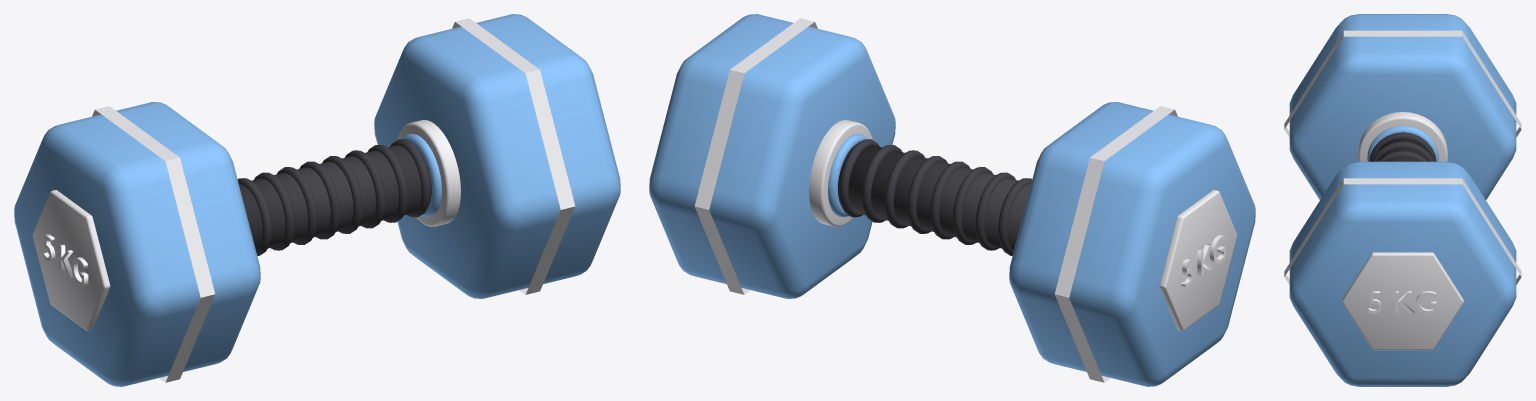
File: dm_small5kg.glb
3 views of the same model, side by side, from view 1: azimuth 30°, elevation 25°; view 2: azimuth 150°, elevation 25°; view 3: azimuth 270°, elevation 25° (orthographic). The views are drawn at different scales.
Parts seen in each view (by area): view 1: Small5kg_HexHead.001, Small5kg_HexHead, Small5kg_Grip, Small5kg_EndPlate, Small5kg_Stripe.001, Small5kg_Stripe, Small5kg_InnerCollar.001, Small5kg_GripEnd.001, Small5kg_Label, Small5kg_GripRing.002, Small5kg_GripRing.004, Small5kg_GripRing.008 (+5 smaller); view 2: Small5kg_HexHead.001, Small5kg_HexHead, Small5kg_Grip, Small5kg_EndPlate, Small5kg_Stripe.001, Small5kg_Stripe, Small5kg_InnerCollar.001, Small5kg_GripEnd.001, Small5kg_Label, Small5kg_GripRing.002, Small5kg_GripRing.004, Small5kg_GripRing.008 (+5 smaller); view 3: Small5kg_HexHead.001, Small5kg_HexHead, Small5kg_EndPlate.001, Small5kg_Stripe, Small5kg_Stripe.001, Small5kg_InnerCollar, Small5kg_Label.001, Small5kg_GripEnd, Small5kg_GripRing, Small5kg_Grip, Small5kg_GripRing.001, Small5kg_GripRing.002.
Boxes of the visible parts, x1,y1,x2,y2 form: Small5kg_HexHead.001: (374, 14, 620, 298); Small5kg_HexHead: (14, 102, 260, 386); Small5kg_Grip: (239, 144, 431, 250); Small5kg_EndPlate: (32, 190, 110, 330); Small5kg_Stripe.001: (452, 18, 575, 294); Small5kg_Stripe: (92, 106, 215, 382); Small5kg_InnerCollar.001: (397, 120, 460, 226); Small5kg_GripEnd.001: (402, 134, 441, 217); Small5kg_Label: (43, 233, 88, 285); Small5kg_GripRing.002: (254, 172, 294, 250); Small5kg_GripRing.004: (299, 161, 339, 239); Small5kg_GripRing.008: (390, 139, 430, 217); Small5kg_HexHead.001: (649, 14, 895, 298); Small5kg_HexHead: (1009, 102, 1255, 386); Small5kg_Grip: (838, 144, 1030, 250); Small5kg_EndPlate: (1159, 190, 1237, 330); Small5kg_Stripe.001: (694, 18, 817, 294); Small5kg_Stripe: (1054, 106, 1177, 382); Small5kg_InnerCollar.001: (809, 120, 872, 226); Small5kg_GripEnd.001: (828, 134, 867, 217); Small5kg_Label: (1181, 235, 1225, 286); Small5kg_GripRing.002: (975, 172, 1015, 250); Small5kg_GripRing.004: (930, 161, 970, 239); Small5kg_GripRing.008: (839, 139, 879, 217); Small5kg_HexHead.001: (1289, 161, 1516, 386); Small5kg_HexHead: (1289, 14, 1516, 199); Small5kg_EndPlate.001: (1342, 252, 1463, 350); Small5kg_Stripe: (1284, 30, 1521, 137); Small5kg_Stripe.001: (1284, 178, 1521, 284); Small5kg_InnerCollar: (1358, 112, 1447, 161); Small5kg_Label.001: (1368, 291, 1436, 313); Small5kg_GripEnd: (1367, 126, 1438, 161); Small5kg_GripRing: (1369, 132, 1436, 161); Small5kg_Grip: (1376, 138, 1429, 161); Small5kg_GripRing.001: (1372, 141, 1433, 161); Small5kg_GripRing.002: (1378, 151, 1427, 161).
Bounding box in the file's own units: 1.35 × 0.5657 × 0.6532.
